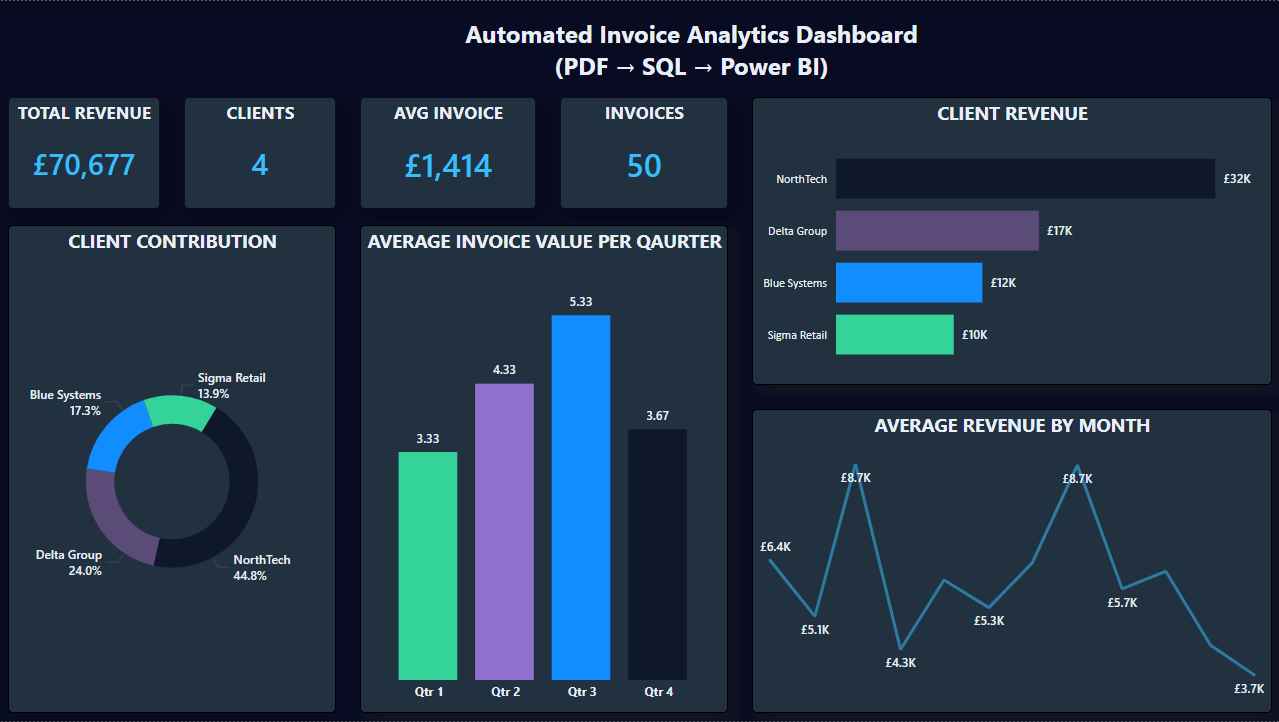

The dashboard page shown, as its layout file describes it:
{"tool":"powerbi","page":{"name":"Page 1","canvas":[1280,720],"ordinal":0},"visuals":[{"type":"card","title":"TOTAL REVENUE","fields":{"Values":["Sum(public v_client_revenue.total_revenue)"]},"box":[8,96,152,112],"z":0},{"type":"card","title":"INVOICES","fields":{"Values":["Sum(public v_client_revenue.invoice_count)"]},"box":[560,96,168,112],"z":1000},{"type":"card","title":"AVG INVOICE","fields":{"Values":["Sum(public v_invoice_kpis.avg_invoice_value)"]},"box":[360,96,176,112],"z":2000},{"type":"lineChart","title":"AVERAGE REVENUE BY MONTH","fields":{"Category":["public v_monthly_invoice_performance.month.Variation.Date Hierarchy.Month"],"Y":["Avg(public v_monthly_invoice_performance.revenue)"]},"box":[752,408,520,304],"z":3000},{"type":"columnChart","title":"AVERAGE INVOICE VALUE PER QAURTER ","fields":{"Category":["public v_monthly_invoice_performance.month.Variation.Date Hierarchy.Quarter"],"Y":["Avg(public v_monthly_invoice_performance.invoice_count)"]},"box":[360,224,368,488],"z":4000},{"type":"donutChart","title":"CLIENT CONTRIBUTION","fields":{"Y":["Sum(public v_client_revenue.total_revenue)"],"Category":["public v_client_revenue.client_id"]},"box":[8,224,328,488],"z":5000},{"type":"barChart","title":"CLIENT REVENUE ","fields":{"Category":["public v_client_revenue.client_id"],"Y":["Sum(public v_client_revenue.total_revenue)"]},"box":[752,96,520,288],"z":6000},{"type":"card","title":"CLIENTS","fields":{"Values":["CountNonNull(public v_client_revenue.client_id)"]},"box":[184,96,152,112],"z":7000},{"type":"textbox","title":"Automated Invoice Analytics Dashboard (PDF → SQL → Power BI)","box":[448,16,488,64],"z":9000}]}

Visuals, with their boxes in screenshot pixels (x1, y1, x2, y2), scaled from the page's 1280x720 canvas onto the 1279x722 screenshot:
"TOTAL REVENUE" card: [8,96,160,209]
"INVOICES" card: [560,96,727,209]
"AVG INVOICE" card: [360,96,536,209]
"AVERAGE REVENUE BY MONTH" lineChart: [751,409,1271,714]
"AVERAGE INVOICE VALUE PER QAURTER " columnChart: [360,225,727,714]
"CLIENT CONTRIBUTION" donutChart: [8,225,336,714]
"CLIENT REVENUE " barChart: [751,96,1271,385]
"CLIENTS" card: [184,96,336,209]
"Automated Invoice Analytics Dashboard (PDF → SQL → Power BI)" textbox: [448,16,935,80]
